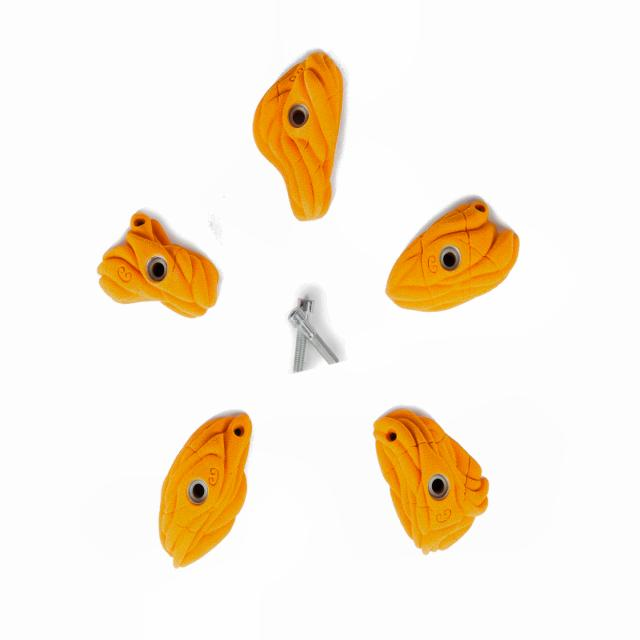Hold: (369, 405, 495, 554), (380, 192, 522, 305), (253, 52, 346, 221), (154, 407, 251, 566), (98, 207, 219, 319)
